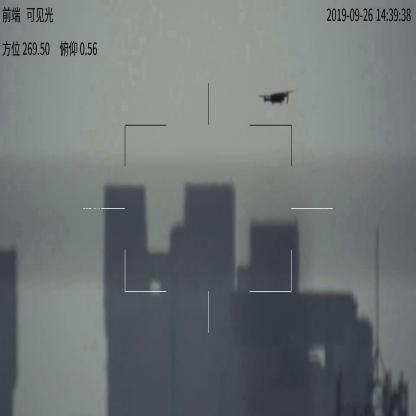uav: (257, 86, 294, 107)
